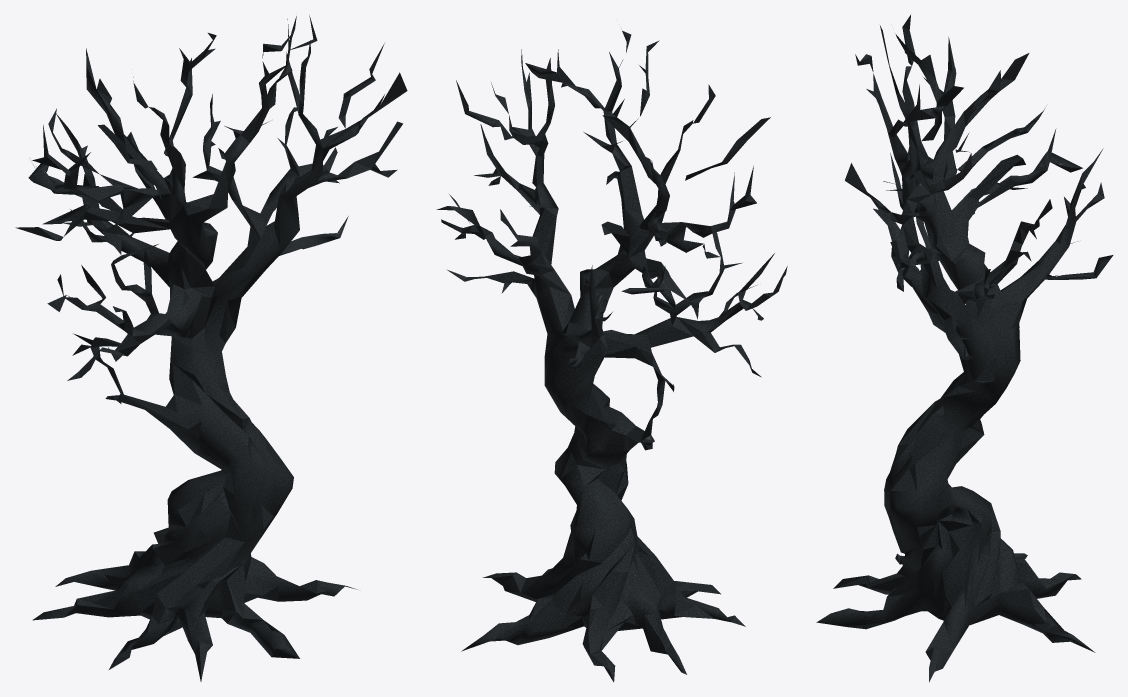
Rendered from modelo.fbx.
3 views of the same model, side by side, from view 1: azimuth 30°, elevation 25°; view 2: azimuth 150°, elevation 25°; view 3: azimuth 270°, elevation 25° (orthographic). The views are drawn at different scales.
Parts seen in each view (by area): view 1: Mesh_0; view 2: Mesh_0; view 3: Mesh_0.
Part boxes in pixels (x1=…): Mesh_0: x1=15, y1=15, x2=407, y2=681; Mesh_0: x1=436, y1=30, x2=787, y2=682; Mesh_0: x1=816, y1=15, x2=1113, y2=682.
Bounding box in the file's own units: 109 × 188 × 86.48.
1 material, 1 textured.
